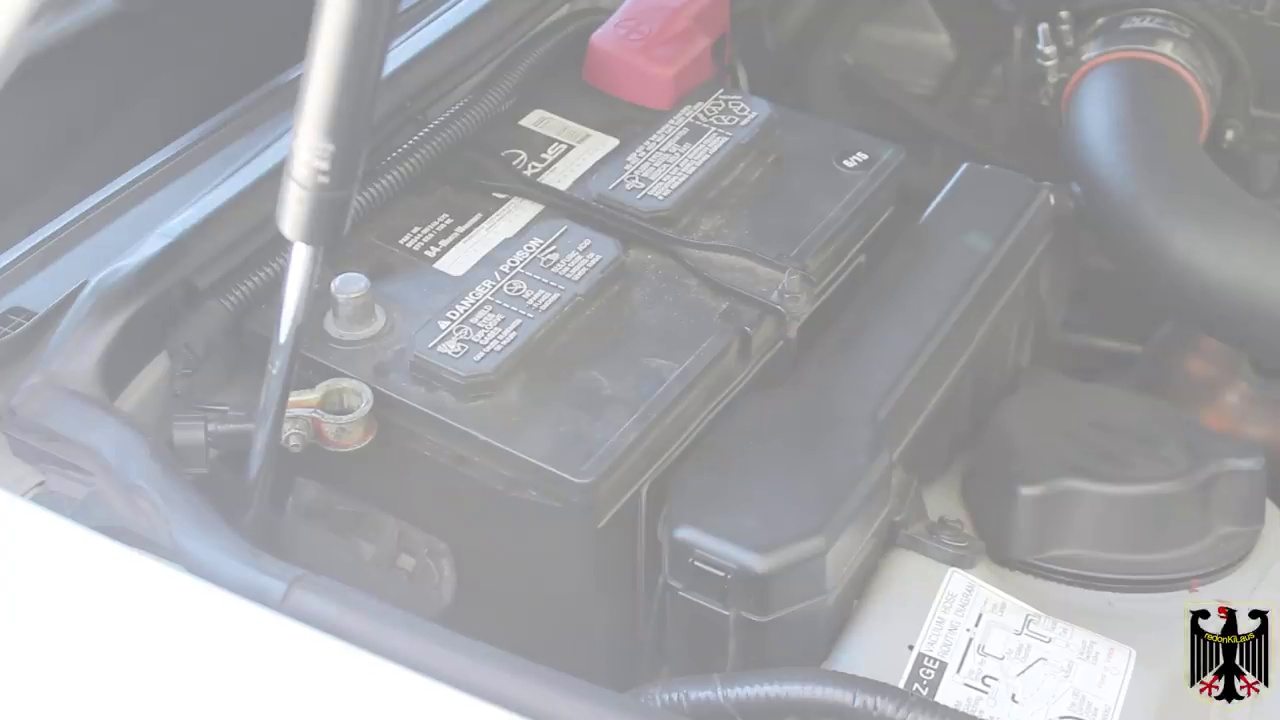battery: (242, 40, 906, 501)
neg_disconnected: (257, 245, 440, 416)
pos_connected: (547, 5, 776, 131)
